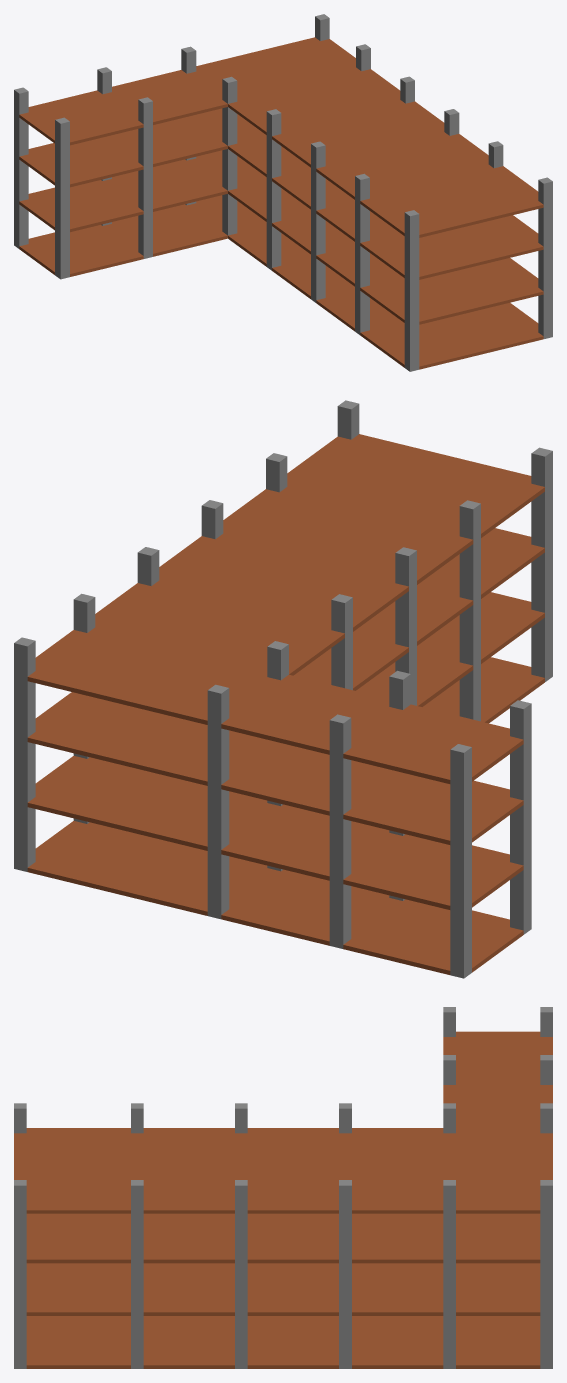
File: ConstructionSite.fbx
3 renders of one model, top to bottom at view 1: azimuth 30°, elevation 25°; view 2: azimuth 150°, elevation 25°; view 3: azimuth 270°, elevation 25°, orthographic. The views are drawn at different scales.
Parts seen in each view (by area): view 1: Model; view 2: Model; view 3: Model.
Boxes of the visible parts, bbox=[...] form: Model: bbox=[14, 14, 552, 371]; Model: bbox=[14, 400, 552, 978]; Model: bbox=[14, 1007, 552, 1368].
Bounding box in the file's own units: 301 × 144 × 385.
